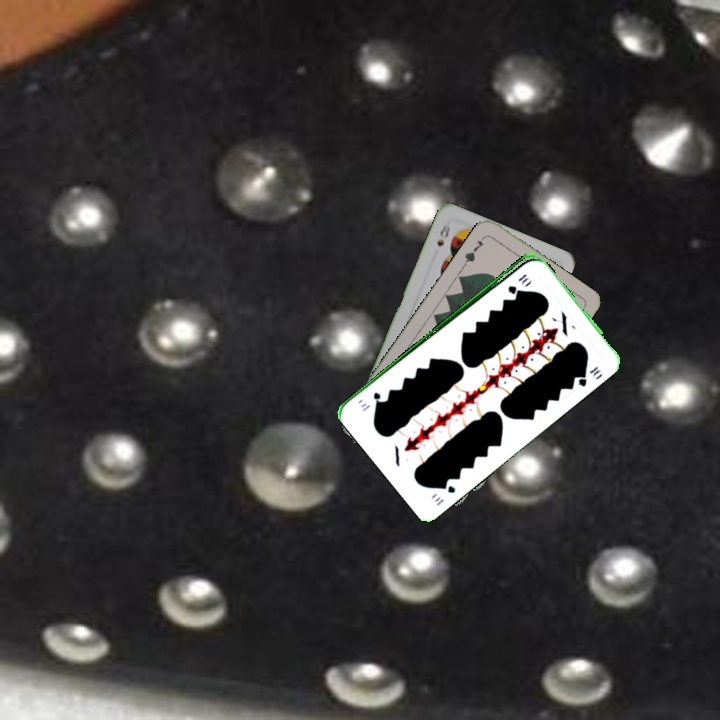G10: (431, 479, 458, 508), (504, 270, 529, 296)
G7: (460, 232, 488, 268)
S8: (433, 220, 453, 249)
